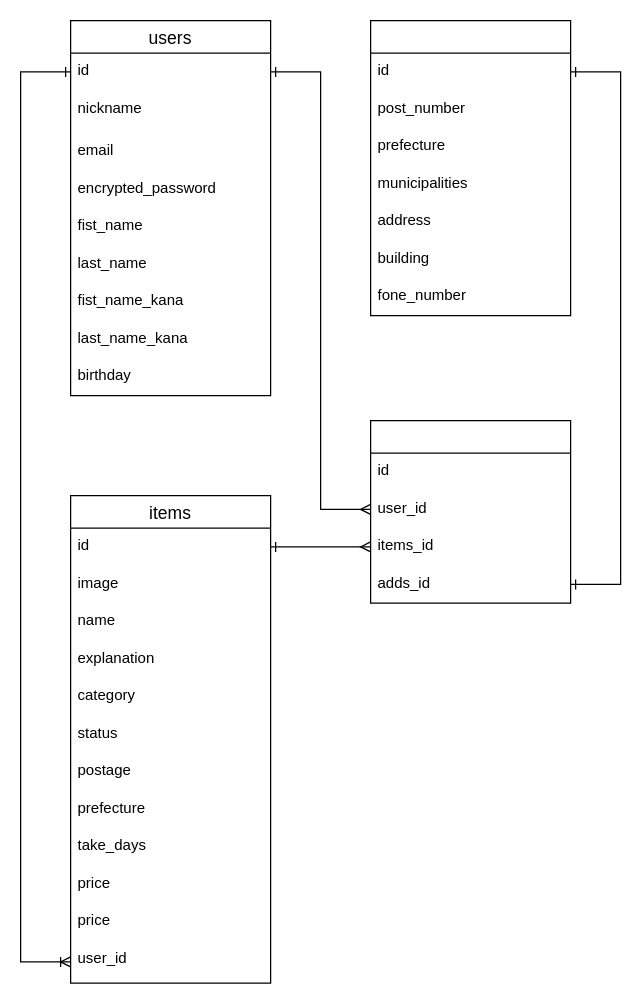
Image size: 641x1004. Some labels were removed from this diagram. Here are the shapes that lost their labels. From the top down, the box of each, then its label:
(369, 19, 571, 316): adds
(369, 419, 571, 603): buys
